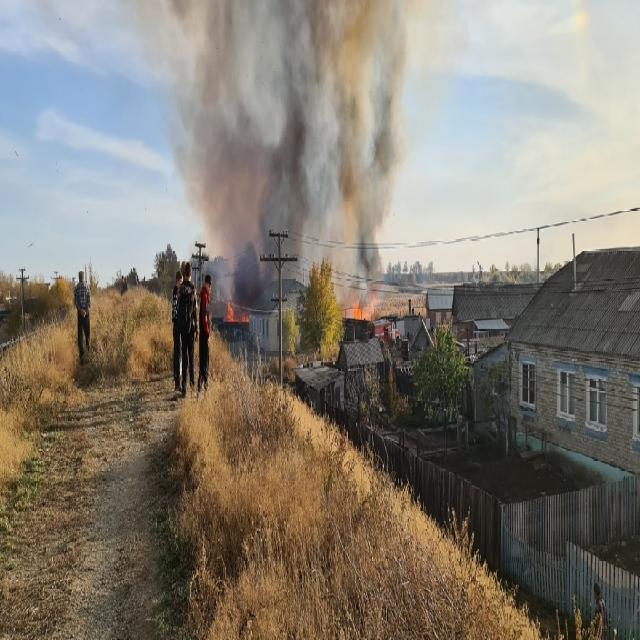Fire: (353, 296, 374, 320), (226, 302, 249, 322)
Smoke: (142, 0, 434, 301)
